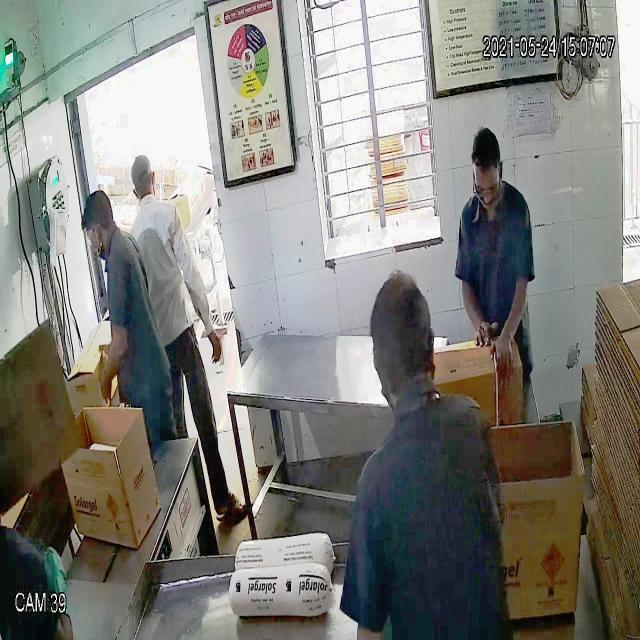glasses: (468, 167, 507, 203)
